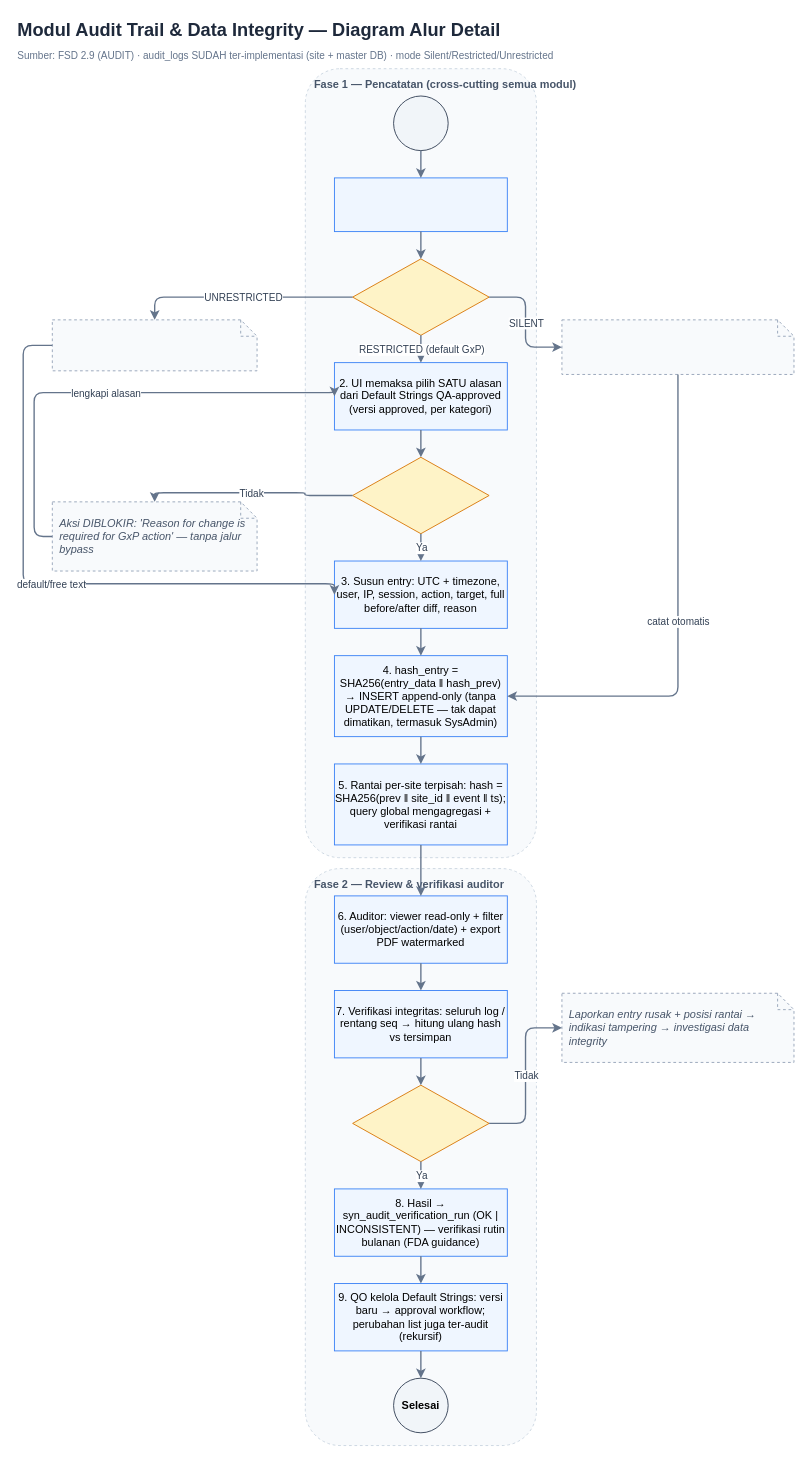
This 810x1461 diagram has some shape labels left out. Each missing label, with the centre of its shape:
"1. Cari konfigurasi mode: syn_audit_mode_config (module_name × action_name)" goes at (420,204).
"Alasan valid (bukan kosong/placeholder)?" goes at (420,495).
"Konsisten?" goes at (420,1123).
"Mode audit?" goes at (420,296).
"Mulai (aksi write modul)" goes at (420,123).
"SILENT — non-GxP (navigasi/view): catat otomatis tanpa prompt" goes at (677,346).
"UNRESTRICTED — Default String ATAU free text" goes at (154,345).
